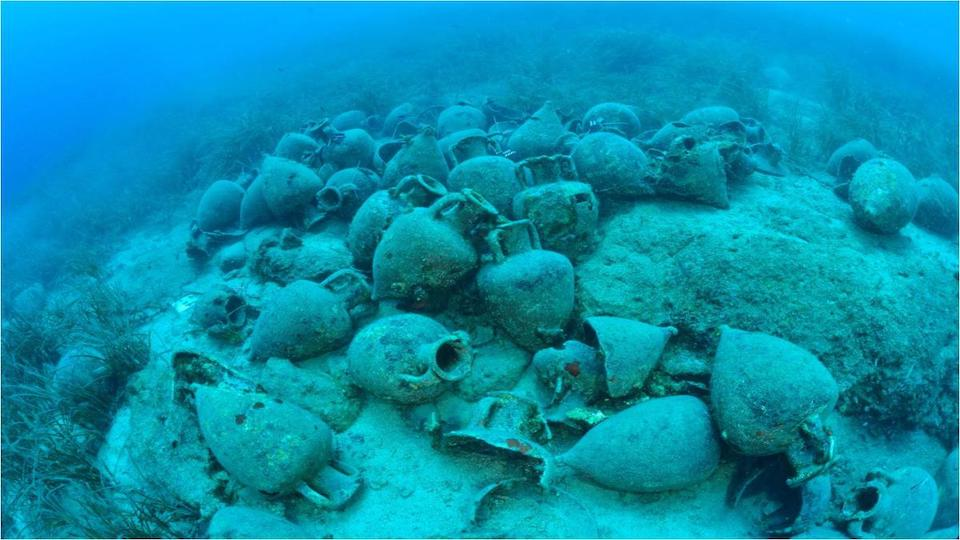amphora: (193, 383, 363, 511), (711, 320, 841, 483), (556, 396, 718, 493), (372, 189, 496, 301), (476, 222, 576, 349), (348, 314, 472, 402), (249, 270, 368, 358), (443, 393, 552, 488), (733, 451, 835, 536), (585, 312, 680, 400), (513, 156, 600, 248), (349, 176, 446, 257), (848, 465, 939, 538), (839, 151, 918, 231), (569, 130, 658, 201), (449, 135, 518, 214), (663, 137, 736, 210), (533, 330, 605, 401), (262, 152, 327, 230), (51, 347, 119, 400), (379, 137, 447, 190), (197, 165, 255, 226), (507, 97, 567, 155), (678, 105, 764, 145), (318, 117, 377, 169), (541, 384, 600, 434), (916, 169, 960, 234), (187, 288, 247, 332), (321, 168, 381, 212), (582, 102, 646, 141), (826, 130, 882, 174), (647, 122, 713, 150), (437, 99, 488, 133), (274, 121, 322, 157), (379, 101, 427, 136), (239, 172, 269, 225), (750, 138, 790, 176), (326, 104, 380, 132), (437, 128, 493, 151), (186, 221, 219, 258), (393, 120, 435, 139)
